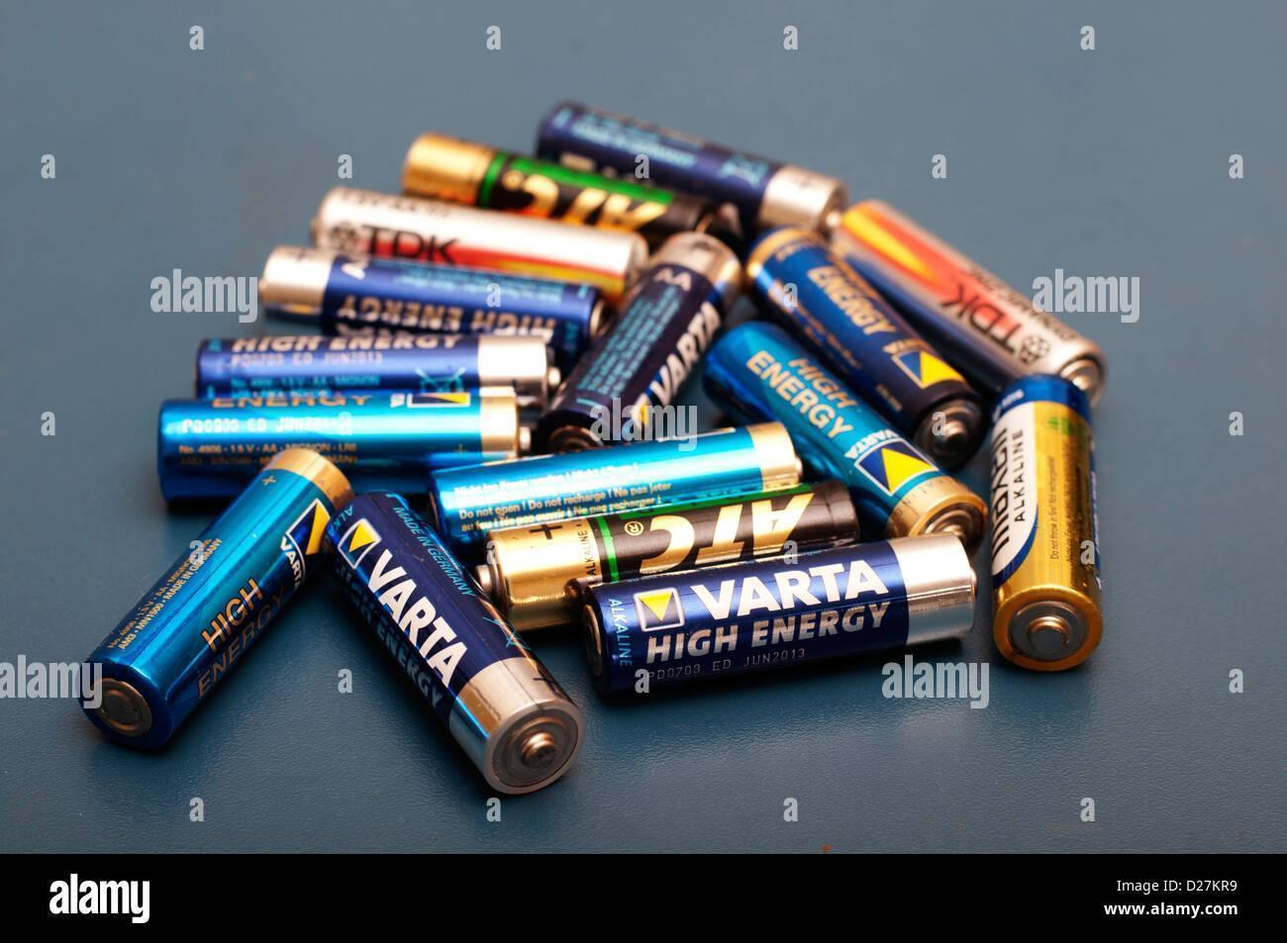AA: (72, 432, 369, 760), (308, 487, 593, 801), (563, 523, 985, 702), (690, 320, 997, 565), (471, 470, 877, 636), (740, 223, 993, 472), (147, 384, 538, 512), (535, 226, 752, 456), (987, 368, 1110, 677)
